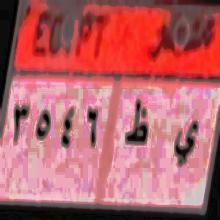3: (13, 98, 31, 149)
4: (60, 104, 74, 152)
5: (35, 105, 52, 142)
6: (87, 102, 98, 150)
Thaa: (125, 94, 149, 156)
yaa: (173, 120, 200, 165)
